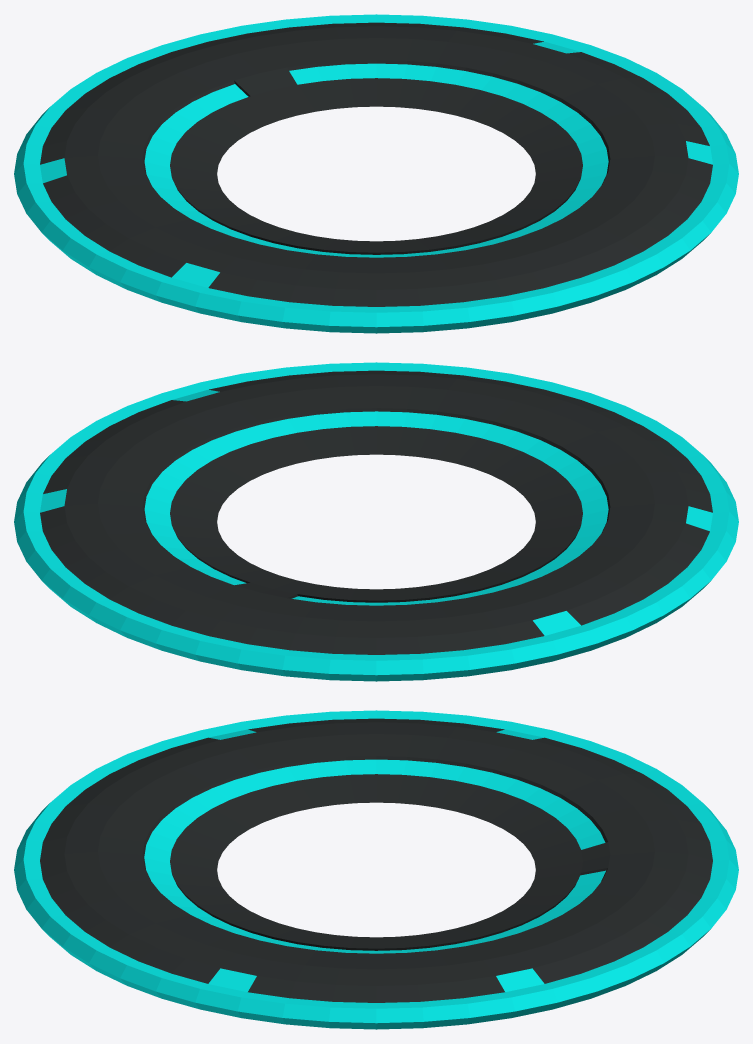
The model's file is TronDiskLowPoly.fbx.
3 renders of one model, top to bottom at view 1: azimuth 30°, elevation 25°; view 2: azimuth 150°, elevation 25°; view 3: azimuth 270°, elevation 25°, orthographic.
Parts seen in each view (by area): view 1: Torus.002; view 2: Torus.002; view 3: Torus.002.
Boxes of the visible parts, box(x1,y1,x2,y2) form: Torus.002: box(14, 14, 738, 333); Torus.002: box(14, 362, 738, 681); Torus.002: box(14, 710, 738, 1029).
Bounding box in the file's own units: 271 × 15.09 × 271.
